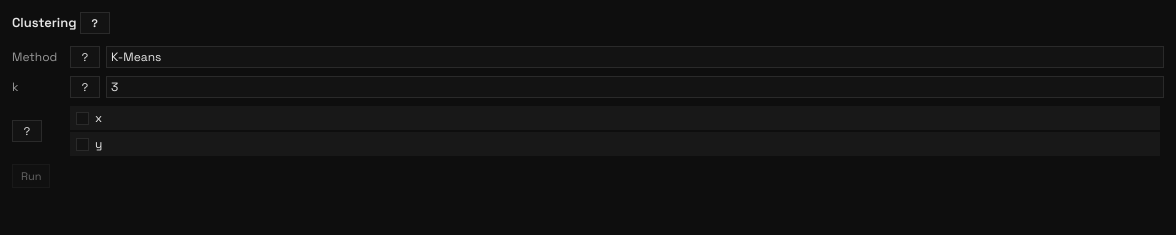
ClusteringPanel › switches method to dbscan and shows eps/minPts
Select "DBSCAN" in the dropdown named "clustering method". click: (635,57)
box: [106,46,1164,68]
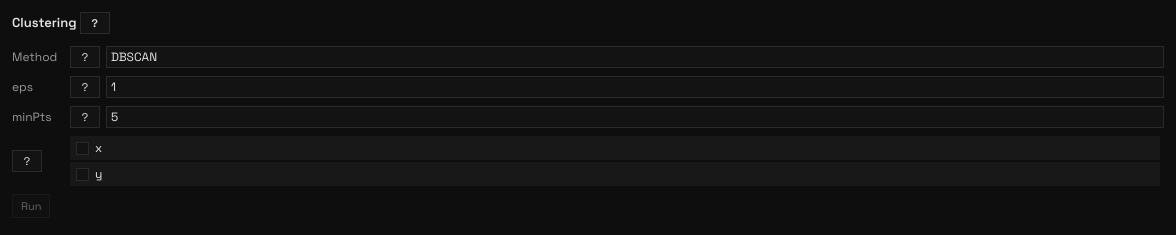
Expected: the number field named "eps" is shown, [106,76,1164,98]
Expected: the number field named "minPts" is shown, [106,106,1164,128]
